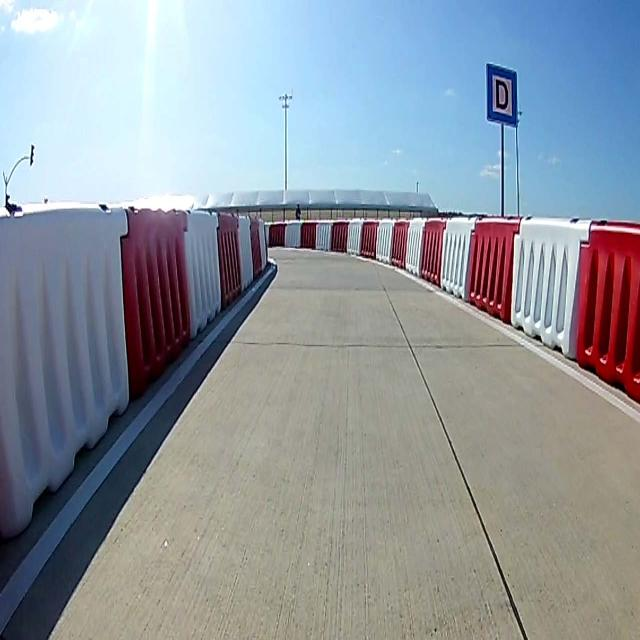durak: (485, 64, 517, 128)
